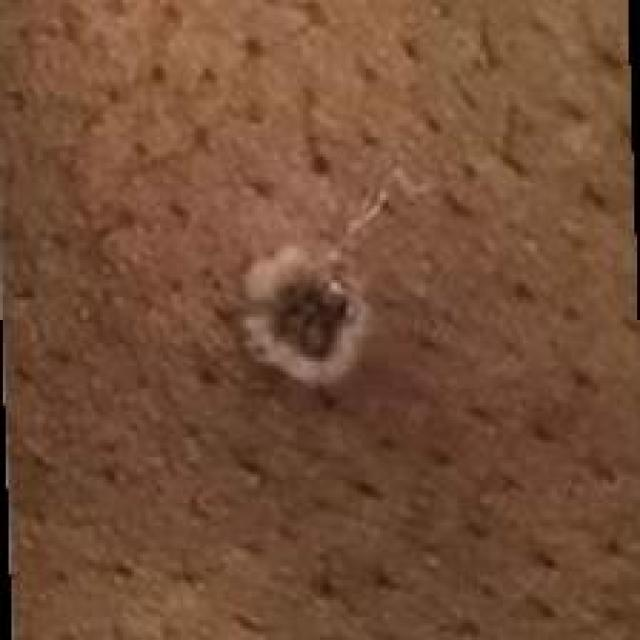monkeypox: (92, 77, 606, 639)
